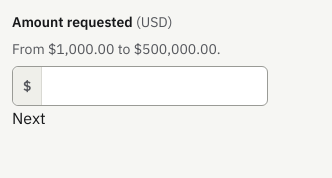
Test case: NumberInput › leaves unparseable text as typed and explains the format (edge case)
Type "12,5" into the field labelled "Amount requested (USD)" at (155, 86), box x1=42 y1=67 x2=267 y2=105
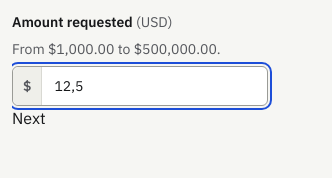
Press Tab
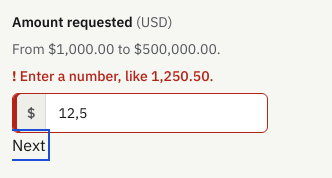
Expected: the text "Enter a number, like 1,250.50." is shown, x1=20 y1=67 x2=214 y2=85
